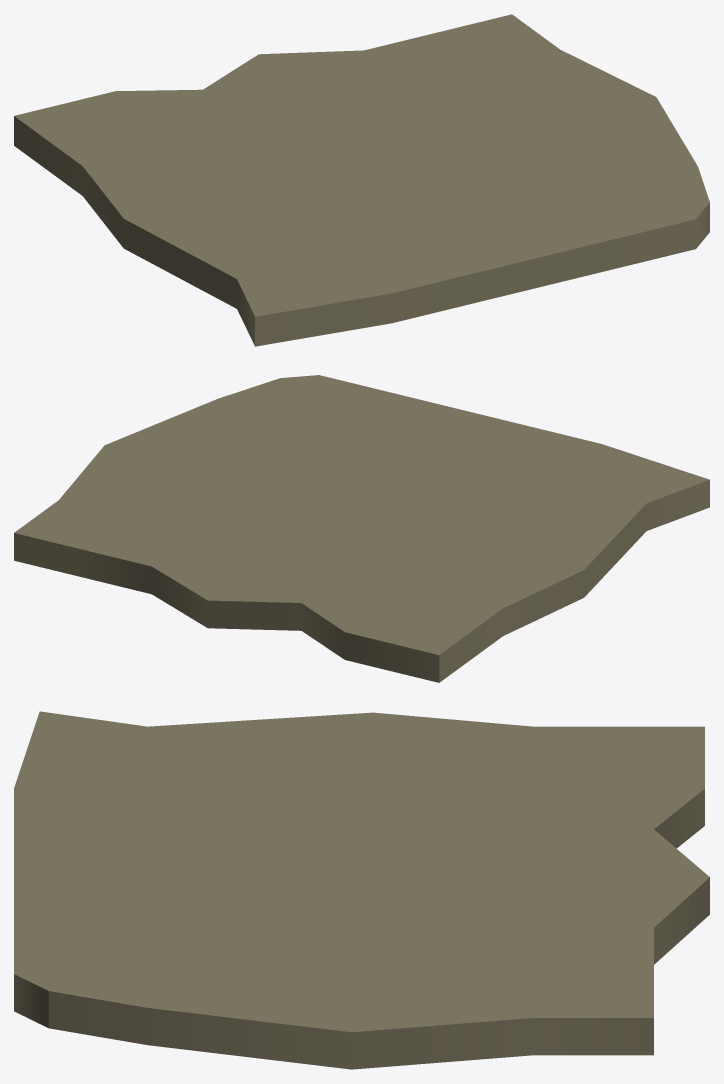
File: Stepstone3.fbx
3 views of the same model, one above another, from view 1: azimuth 30°, elevation 25°; view 2: azimuth 150°, elevation 25°; view 3: azimuth 270°, elevation 25° (orthographic). The views are drawn at different scales.
Parts seen in each view (by area): view 1: step3; view 2: step3; view 3: step3.
Part boxes in pixels (box(x1,y1,x2,y2)): step3: box(14, 14, 709, 346); step3: box(14, 375, 709, 682); step3: box(14, 711, 709, 1069).
Size of the model in its own units: 1.73 by 0.094 by 1.59.
